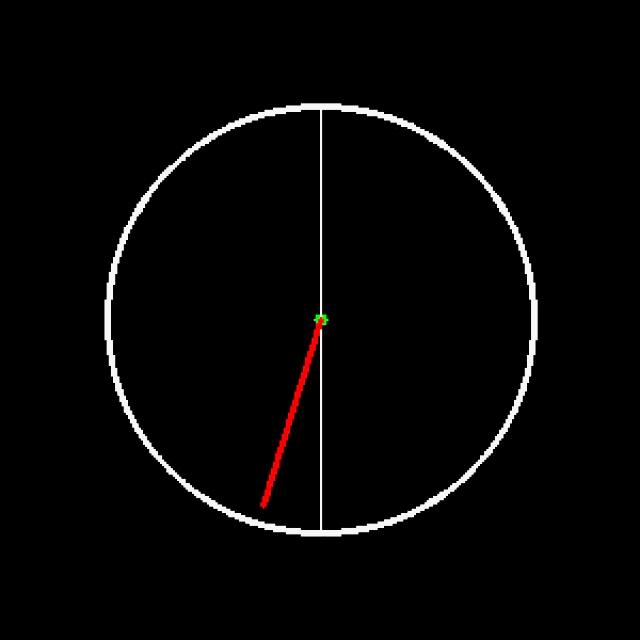Needle_Tip: (247, 486, 294, 527)
Needle_base: (299, 284, 361, 357)
